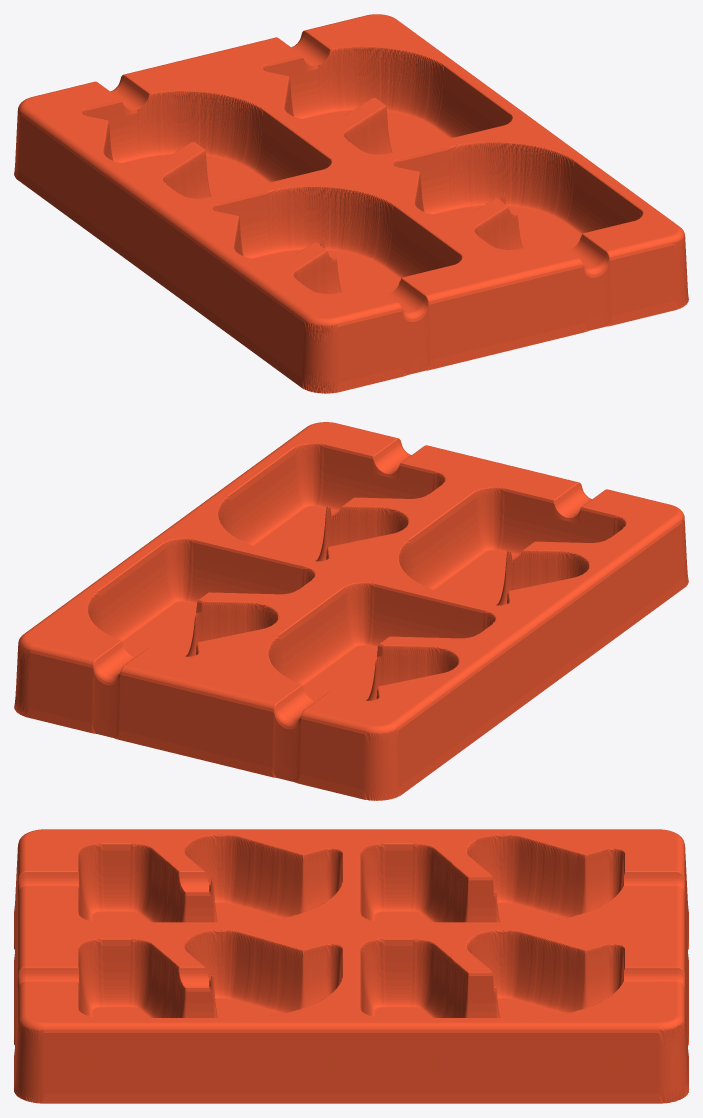
File: mold.glb
3 renders of one model, top to bottom at view 1: azimuth 30°, elevation 25°; view 2: azimuth 150°, elevation 25°; view 3: azimuth 270°, elevation 25°, orthographic. The views are drawn at different scales.
Visible parts, largest first — view 1: geometry_0; view 2: geometry_0; view 3: geometry_0.
Part boxes in pixels (bbox=[...]): geometry_0: bbox=[14, 14, 688, 393]; geometry_0: bbox=[14, 422, 688, 800]; geometry_0: bbox=[14, 829, 688, 1103].
Size of the model in its own units: 0.1398 by 0.0245 by 0.1968.
